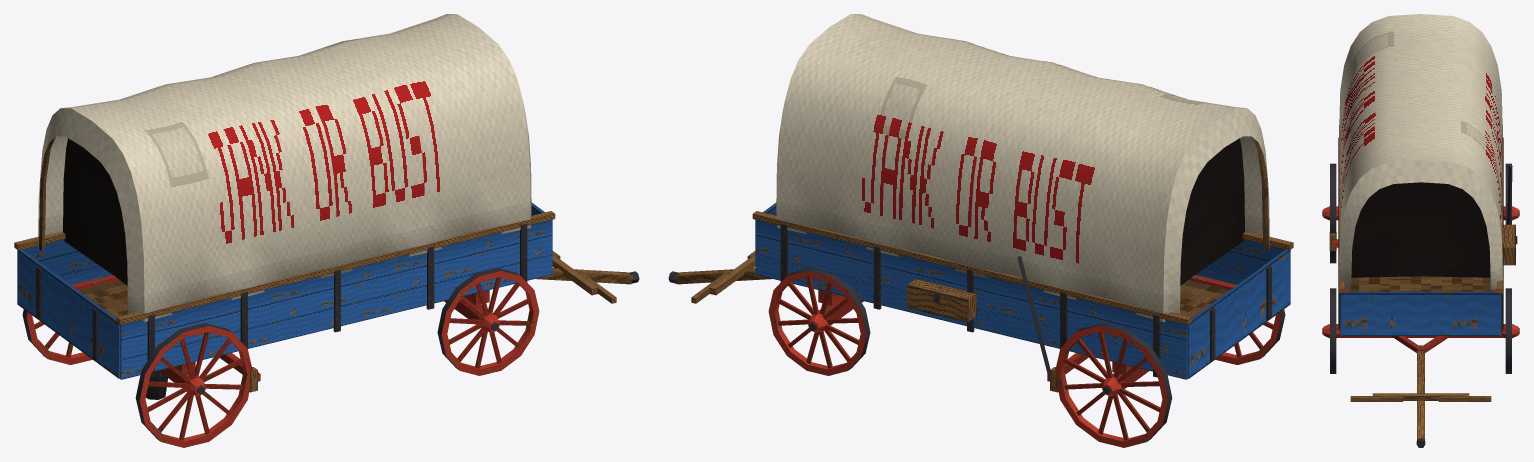
Rendered from p_wagon.glb.
3 views of the same model, side by side, from view 1: azimuth 30°, elevation 25°; view 2: azimuth 150°, elevation 25°; view 3: azimuth 270°, elevation 25° (orthographic). The views are drawn at different scales.
Parts seen in each view (by area): view 1: p_wagon_lod0; view 2: p_wagon_lod0; view 3: p_wagon_lod0.
Boxes of the visible parts, x1=… form: p_wagon_lod0: x1=14, y1=14, x2=639, y2=447; p_wagon_lod0: x1=668, y1=14, x2=1293, y2=447; p_wagon_lod0: x1=1322, y1=14, x2=1519, y2=447.
Size of what is drawn, in the model's own units: 5.82 by 2.86 by 2.25.
Materials: 3 (2 with a texture image).
